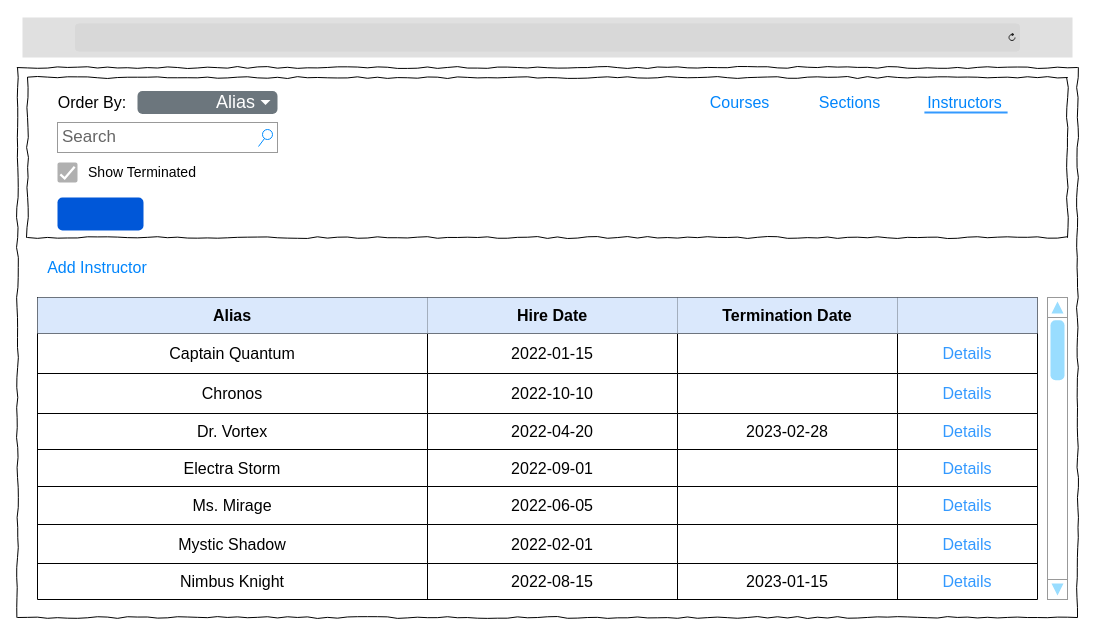
Some shapes in this 1095 by 635 pixel diagram are drawn without their labels. Each missing label, with the box of its shape:
Apply: (57, 197, 143, 230)
fourthwallacademy.com/Instructors: (22, 16, 1072, 58)
